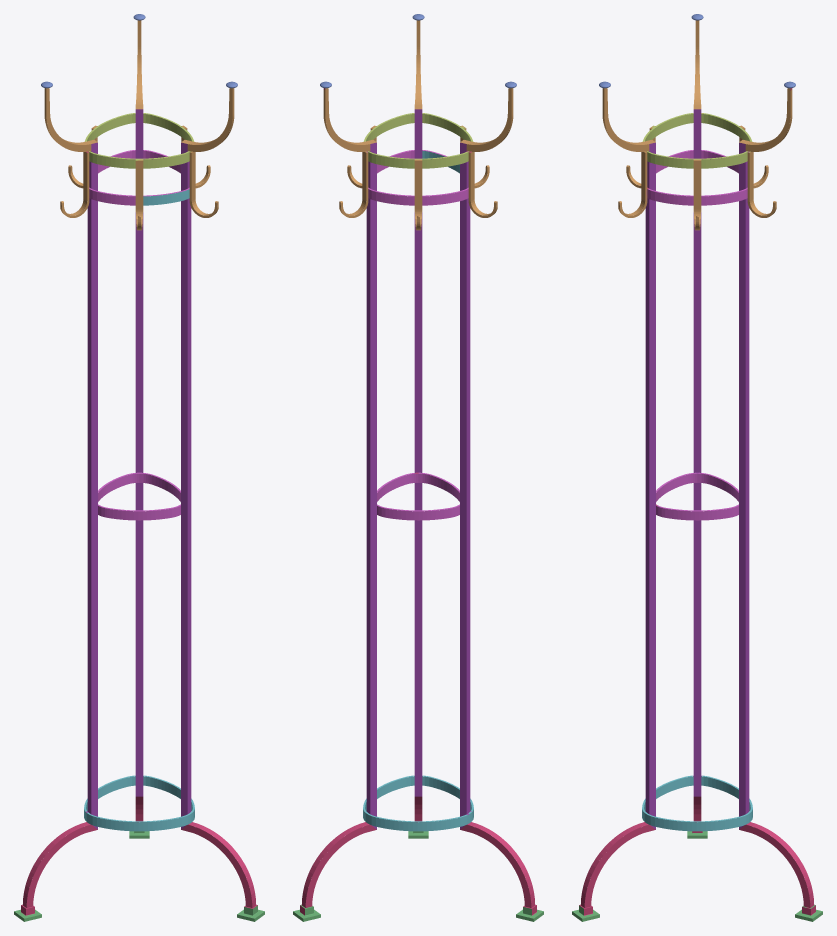
3 views of the same model, side by side, from view 1: azimuth 30°, elevation 25°; view 2: azimuth 150°, elevation 25°; view 3: azimuth 270°, elevation 25° (orthographic).
Parts seen in each view (by area): view 1: pred_mesh_gc.ply; view 2: pred_mesh_gc.ply; view 3: pred_mesh_gc.ply.
Boxes of the visible parts, bbox=[...] form: pred_mesh_gc.ply: bbox=[14, 14, 264, 921]; pred_mesh_gc.ply: bbox=[293, 14, 543, 921]; pred_mesh_gc.ply: bbox=[572, 14, 822, 921].
Size of the model in its own units: 0.2262 by 0.9394 by 0.2577.
